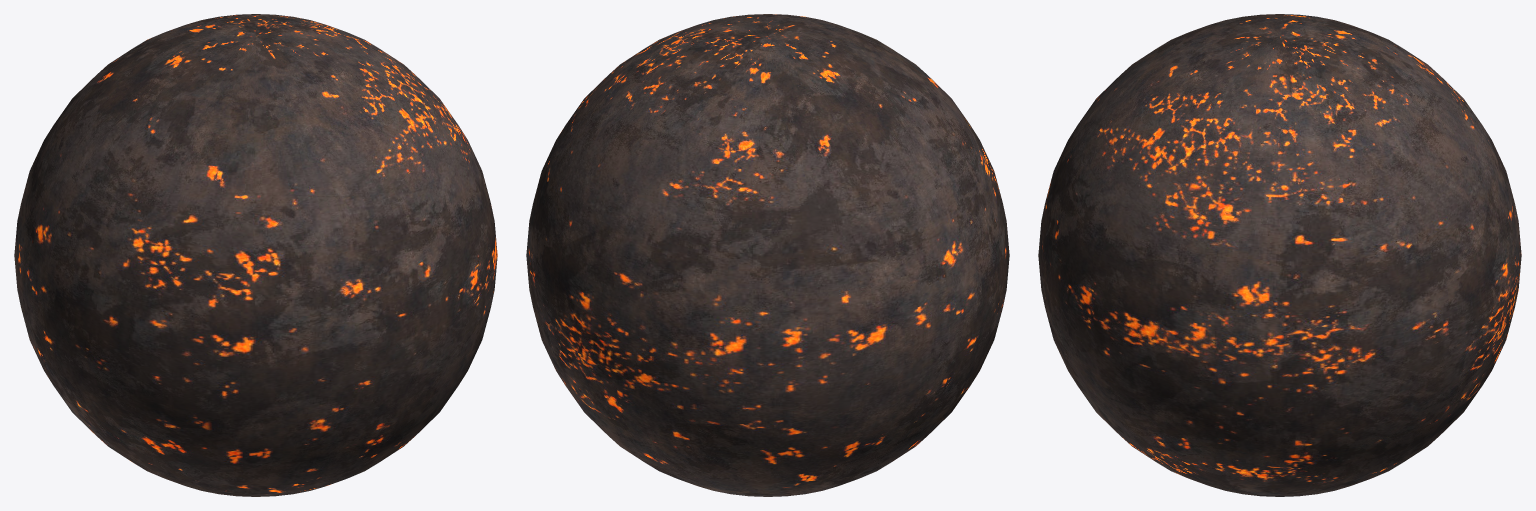
3 renders of one model, left to right at view 1: azimuth 30°, elevation 25°; view 2: azimuth 150°, elevation 25°; view 3: azimuth 270°, elevation 25°, orthographic.
Parts seen in each view (by area): view 1: Object_7; view 2: Object_7; view 3: Object_7.
Part boxes in pixels (x1,y1,x2,y2): Object_7: [14, 14, 497, 496]; Object_7: [526, 14, 1009, 496]; Object_7: [1038, 14, 1521, 496].
Size of the model in its own units: 2 by 2 by 2.
1 material, 1 textured.
